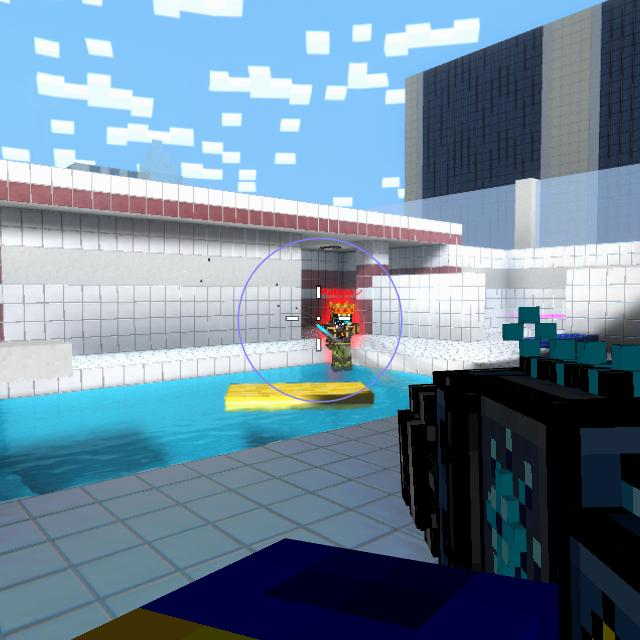Enemy: (322, 305, 360, 373)
